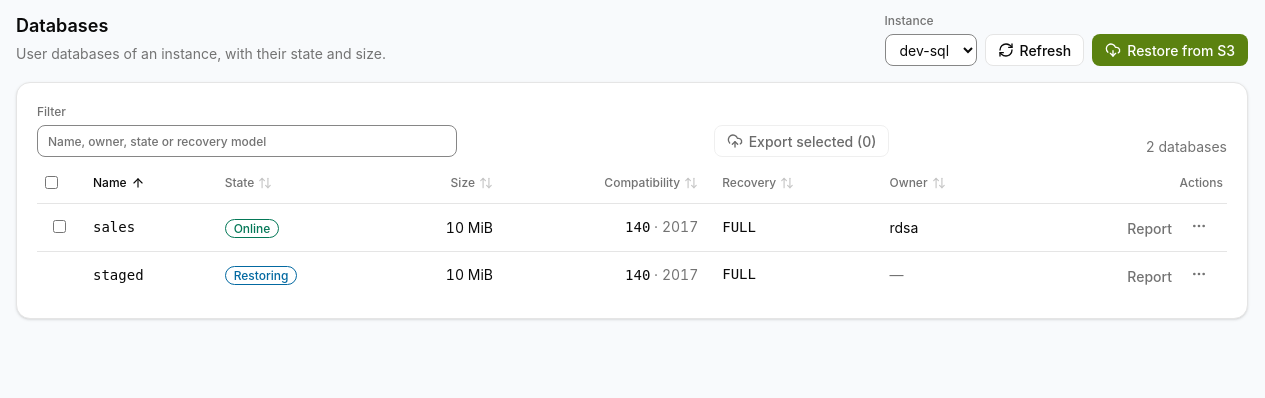
Test case: DatabasesPage actions › offers the actions that fit the state of each database
The width and height of the screenshot is (1265, 398).
Check: the column heading "Actions" is shown, box [1017,169,1227,203]
Click the button named "Actions for sales" at (1199, 226), box [1183,212,1215,240]
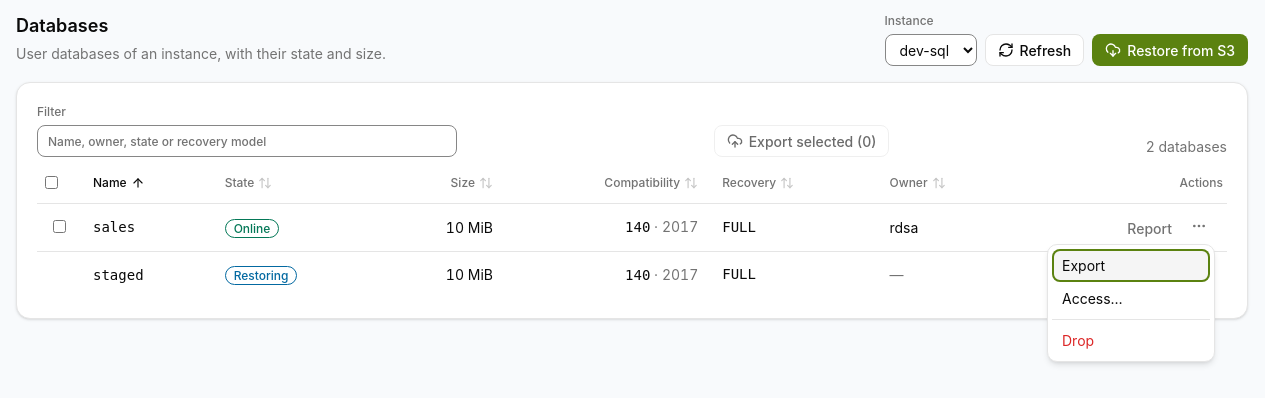
Check: the menu is shown, box [1047,244,1215,362]
Press Escape
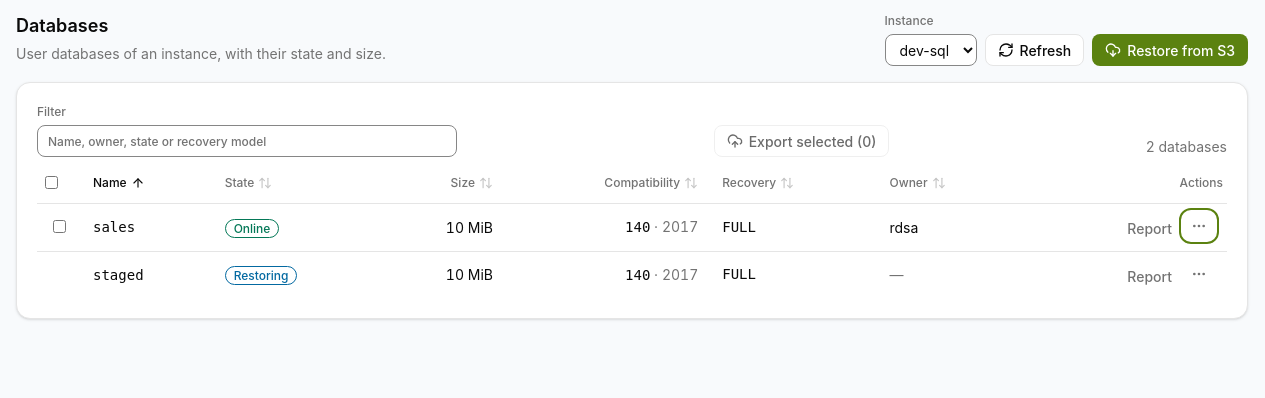
Click the button named "Actions for staged" at (1199, 274), box [1183,260,1215,288]
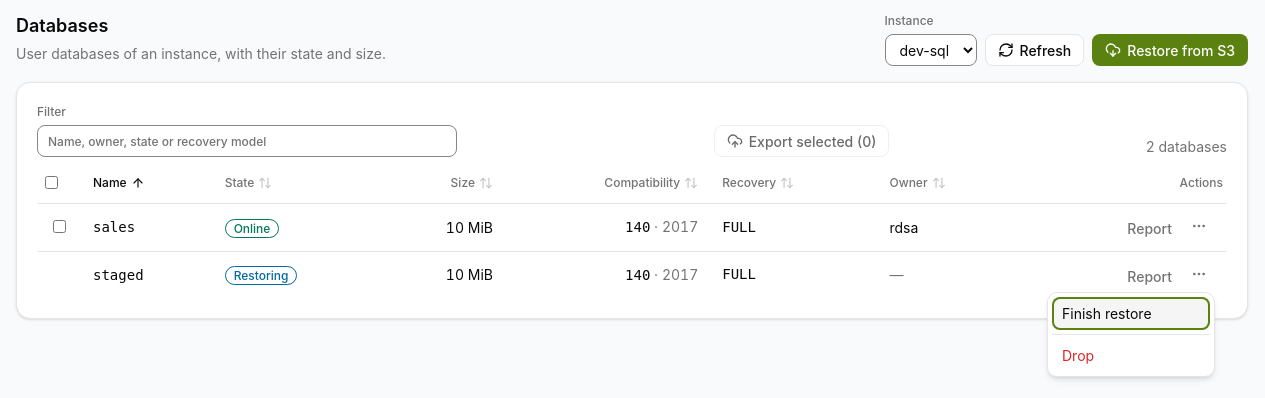
Check: the menu is shown, box [1047,292,1215,376]
